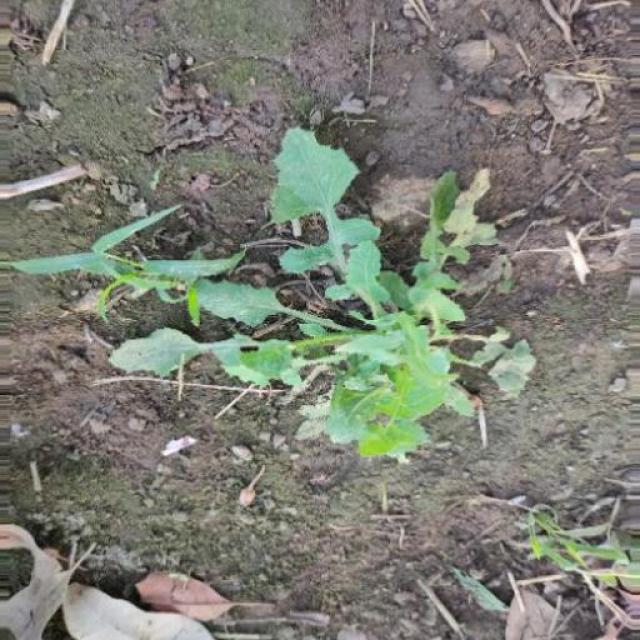weed: (70, 128, 529, 456)
